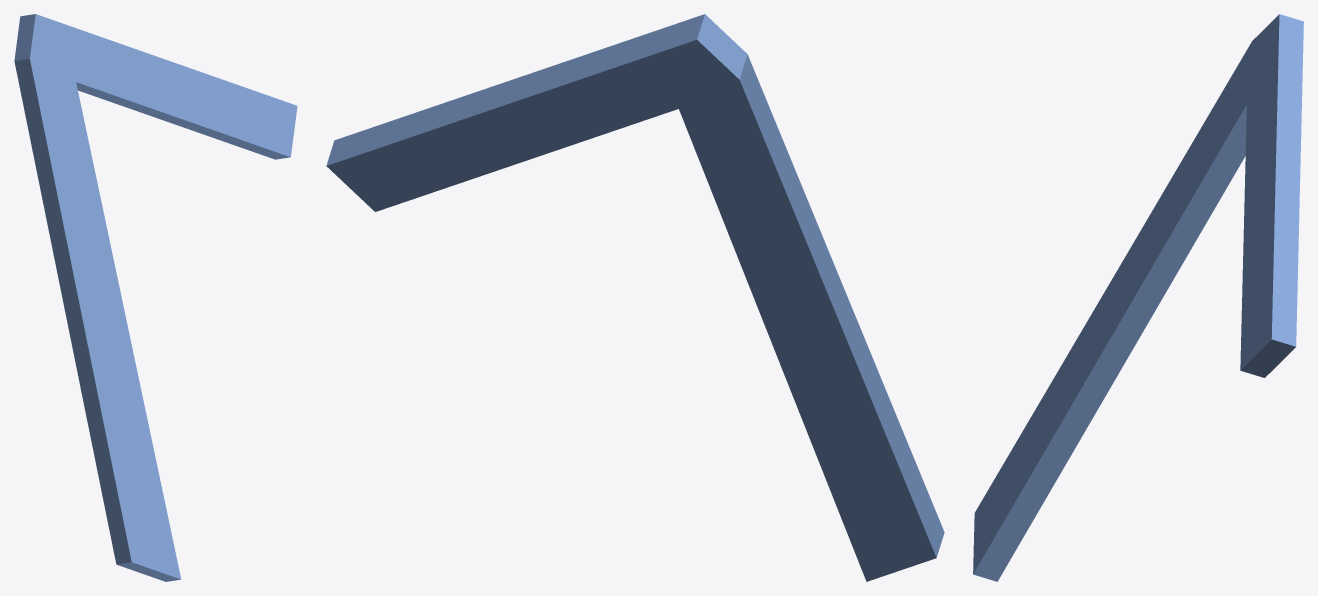
File: New_Number_7.gltf
The picture shows the model from 3 angles, left to right: view 1: azimuth 30°, elevation 25°; view 2: azimuth 150°, elevation 25°; view 3: azimuth 270°, elevation 25°; orthographic projection. The views are drawn at different scales.
Parts seen in each view (by area): view 1: Part 538; view 2: Part 538; view 3: Part 538.
Boxes of the visible parts, x1,y1,x2,y2 form: Part 538: (14, 14, 297, 581); Part 538: (326, 14, 944, 581); Part 538: (973, 14, 1303, 581).
Bounding box in the file's own units: 0.00368 × 0.00568 × 0.00303.
